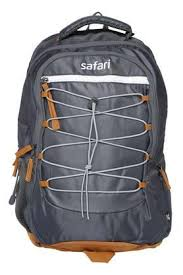backpack: (8, 11, 172, 262)
